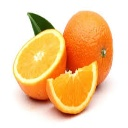orange: (62, 10, 114, 90), (14, 27, 68, 100), (45, 60, 99, 115)
